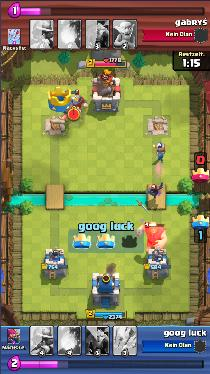ally_wallbreaker: (153, 144, 165, 162)
enemy_giant: (136, 221, 168, 251)
enemy_knight: (70, 95, 87, 112)
enemy_mini_pekka: (146, 182, 164, 197)
